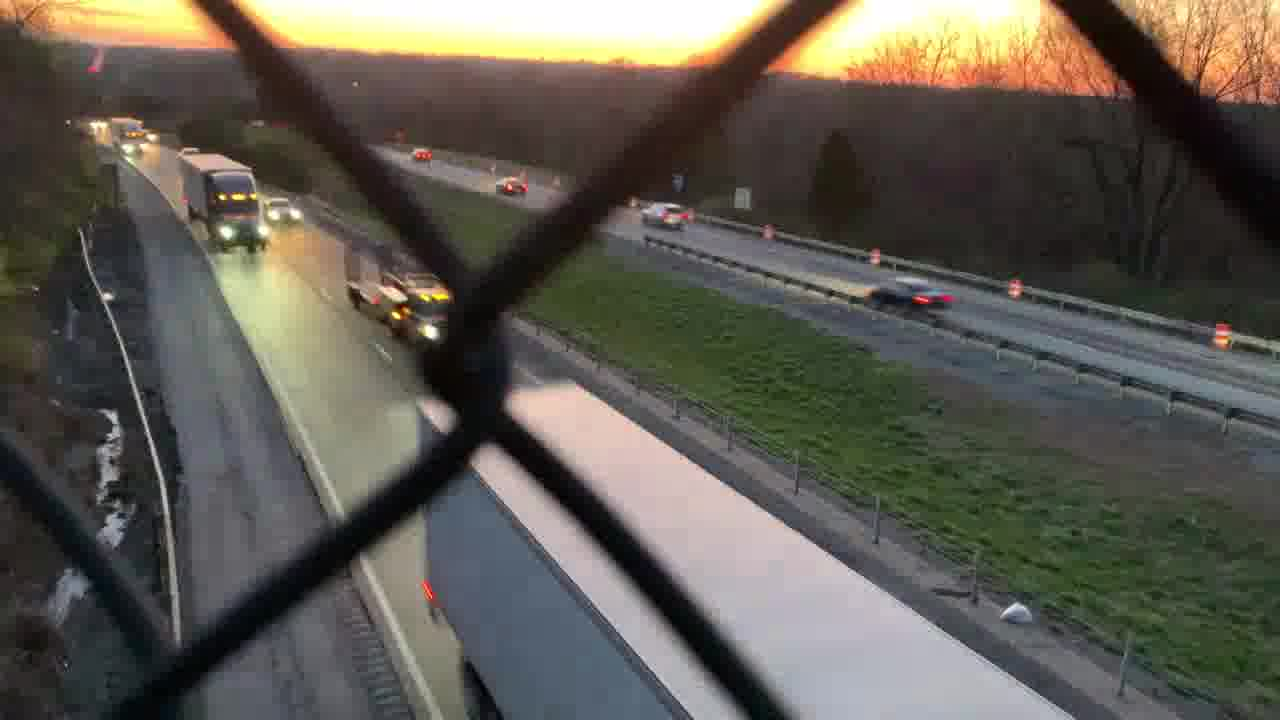heavyTruck: (174, 148, 262, 258)
smallCar: (871, 275, 954, 317)
